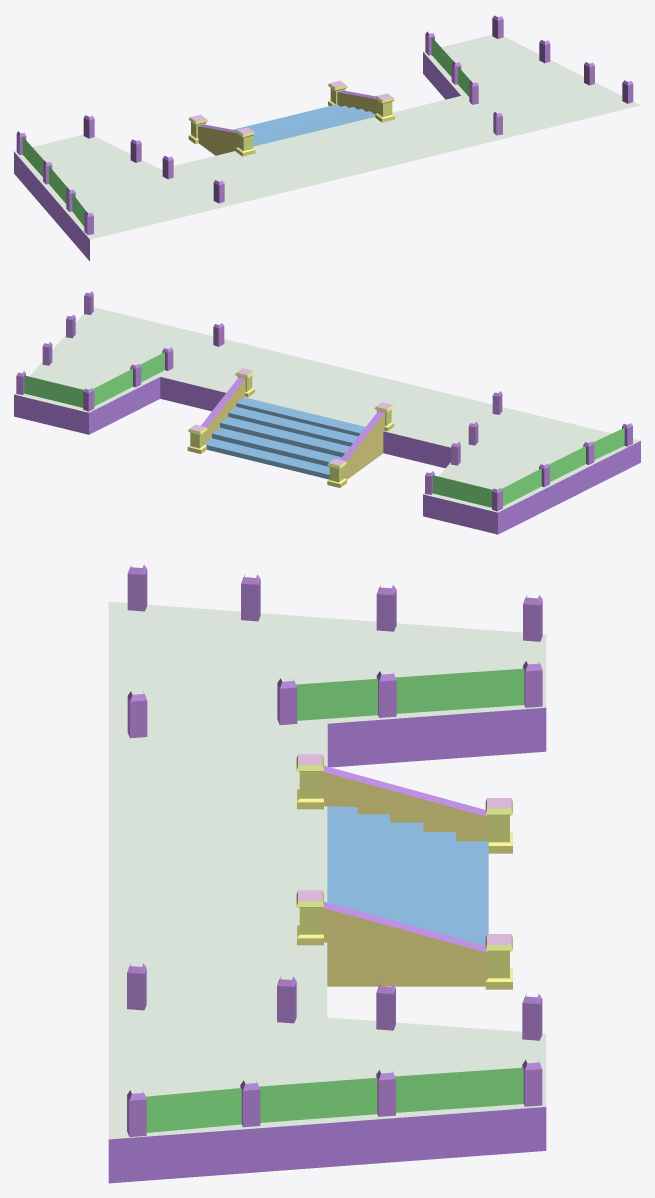
3 views of the same model, one above another, from view 1: azimuth 30°, elevation 25°; view 2: azimuth 150°, elevation 25°; view 3: azimuth 270°, elevation 25° (orthographic). The views are drawn at different scales.
Visible parts, largest first — view 1: O_E_GD_Bt; view 2: O_E_GD_Bt; view 3: O_E_GD_Bt.
Boxes of the visible parts, bbox=[...] form: O_E_GD_Bt: bbox=[14, 15, 640, 261]; O_E_GD_Bt: bbox=[14, 291, 640, 534]; O_E_GD_Bt: bbox=[108, 565, 546, 1183].
Bounding box in the file's own units: 9.81 × 0.7449 × 3.38.
